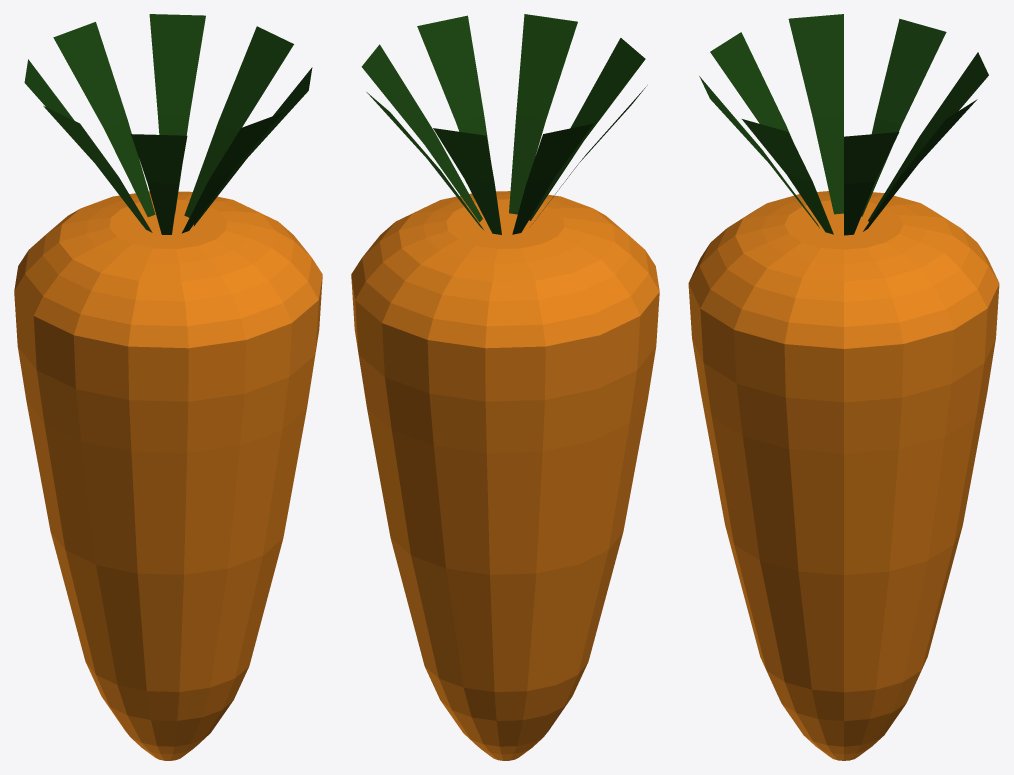
File: Carrot.fbx
The picture shows the model from 3 angles, left to right: view 1: azimuth 30°, elevation 25°; view 2: azimuth 150°, elevation 25°; view 3: azimuth 270°, elevation 25°; orthographic projection.
Parts seen in each view (by area): view 1: Carrot; view 2: Carrot; view 3: Carrot.
Boxes of the visible parts, box(x1,y1,x2,y2) form: Carrot: box(14, 14, 322, 760); Carrot: box(351, 14, 659, 760); Carrot: box(688, 14, 999, 760).
Size of the model in its own units: 200 by 482 by 200.
